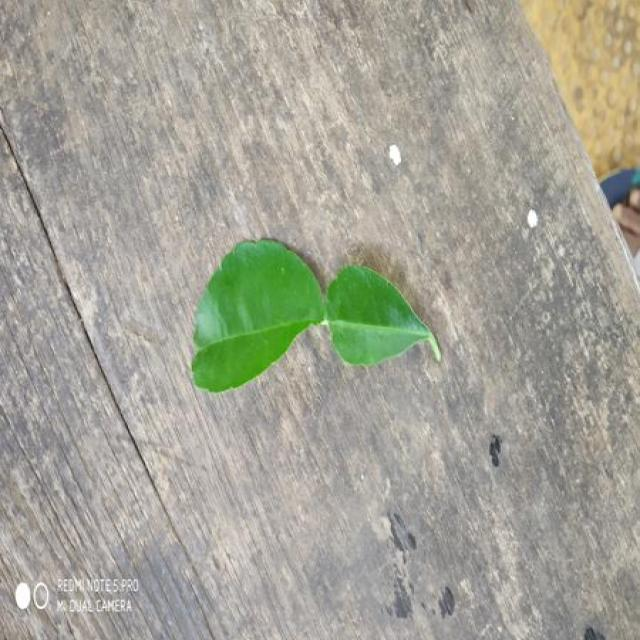citron lime: (193, 241, 439, 392)
